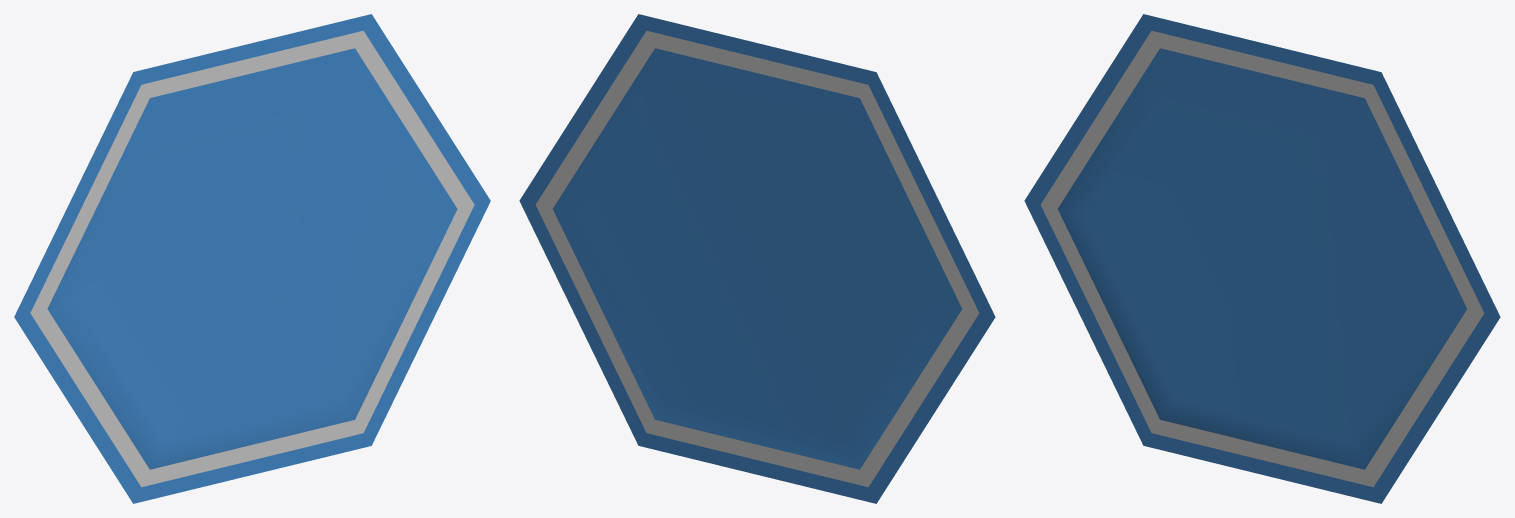
The model's file is Hexagone.fbx.
The picture shows the model from 3 angles, left to right: view 1: azimuth 30°, elevation 25°; view 2: azimuth 150°, elevation 25°; view 3: azimuth 330°, elevation 25°; orthographic projection.
Visible parts, largest first — view 1: Circle; view 2: Circle; view 3: Circle.
Boxes of the visible parts, x1,y1,x2,y2 form: Circle: (14,14,490,503); Circle: (519,14,995,503); Circle: (1024,14,1500,503).
Bounding box in the file's own units: 1474 × 1277 × 7.73.
